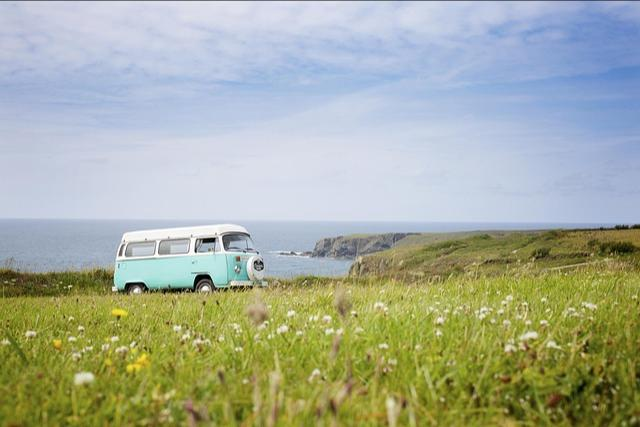Non_Gorille: (54, 176, 392, 376)
